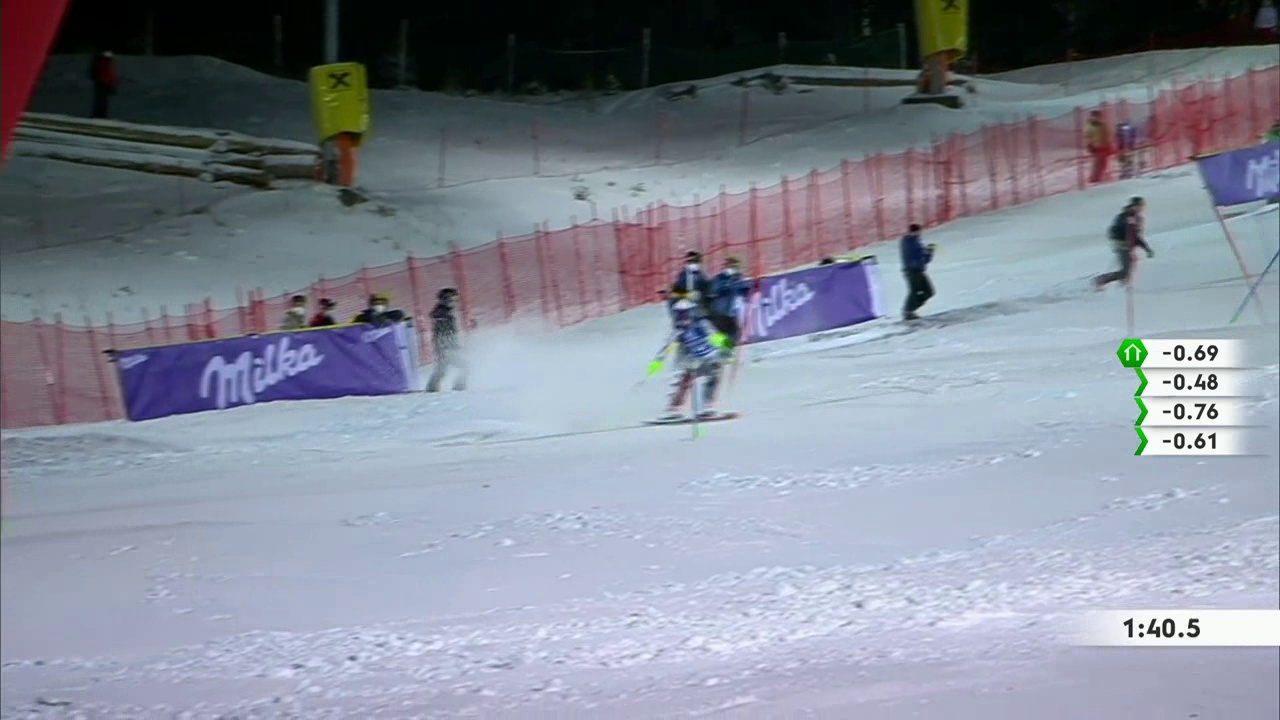milka: (128, 337, 365, 414)
raiffeisen: (320, 64, 358, 97), (931, 1, 968, 19)
